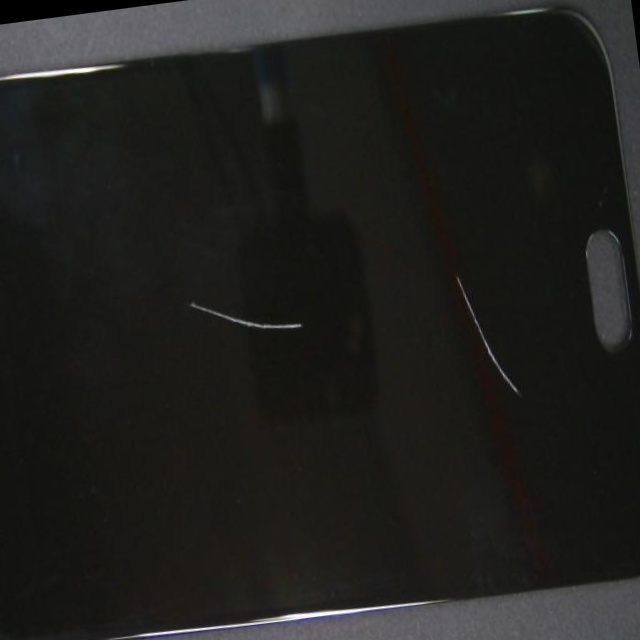scratch: (252, 235, 640, 576), (169, 166, 464, 480)
